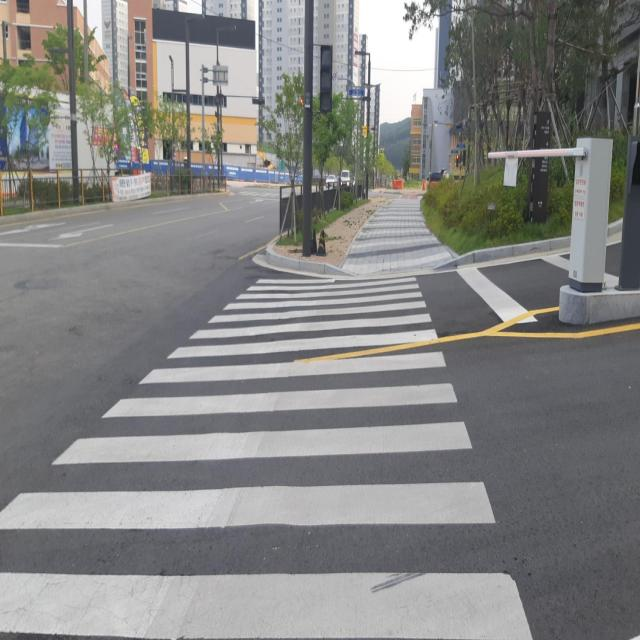횡단보도: (0, 272, 535, 640)
